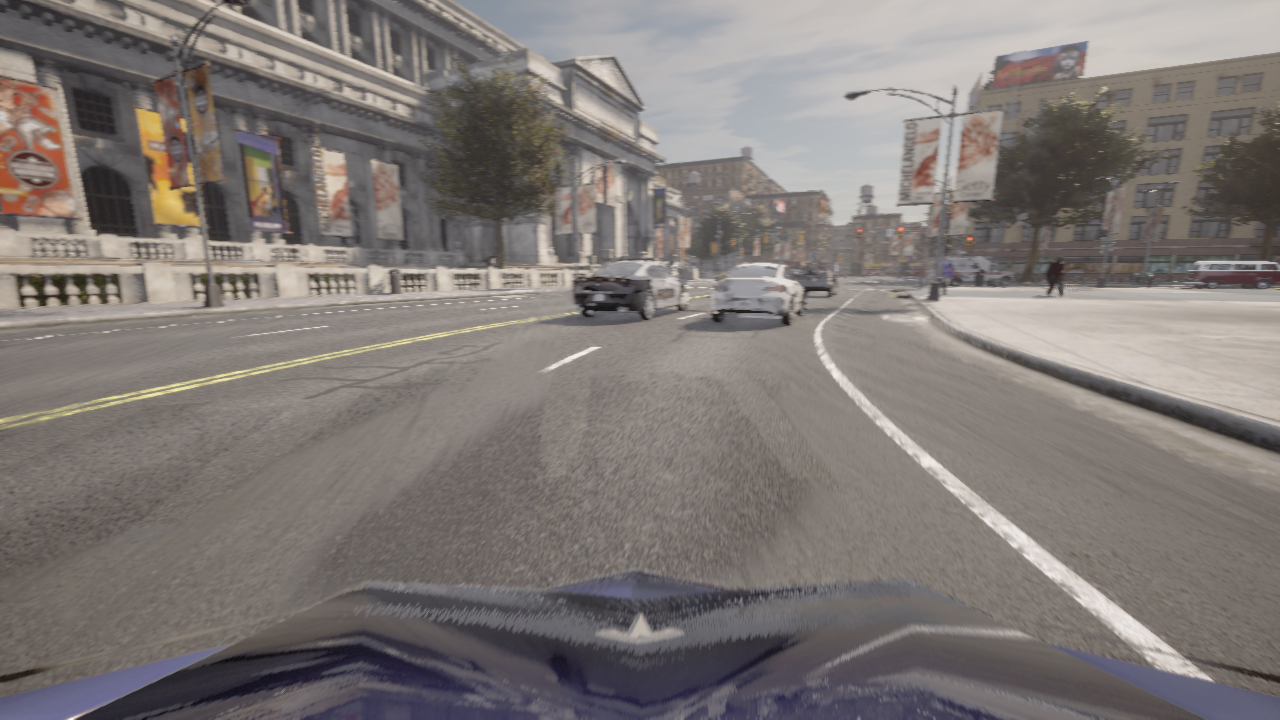cyclist: (0, 569, 1279, 719), (573, 257, 687, 320), (705, 262, 810, 325), (922, 257, 1014, 286), (1184, 261, 1279, 288), (799, 264, 839, 297), (815, 262, 839, 272), (720, 267, 733, 280), (789, 267, 800, 280), (842, 272, 852, 276), (875, 272, 882, 275), (868, 272, 873, 275), (873, 272, 877, 275), (838, 272, 841, 276)
pedestrian: (1047, 256, 1064, 296)
